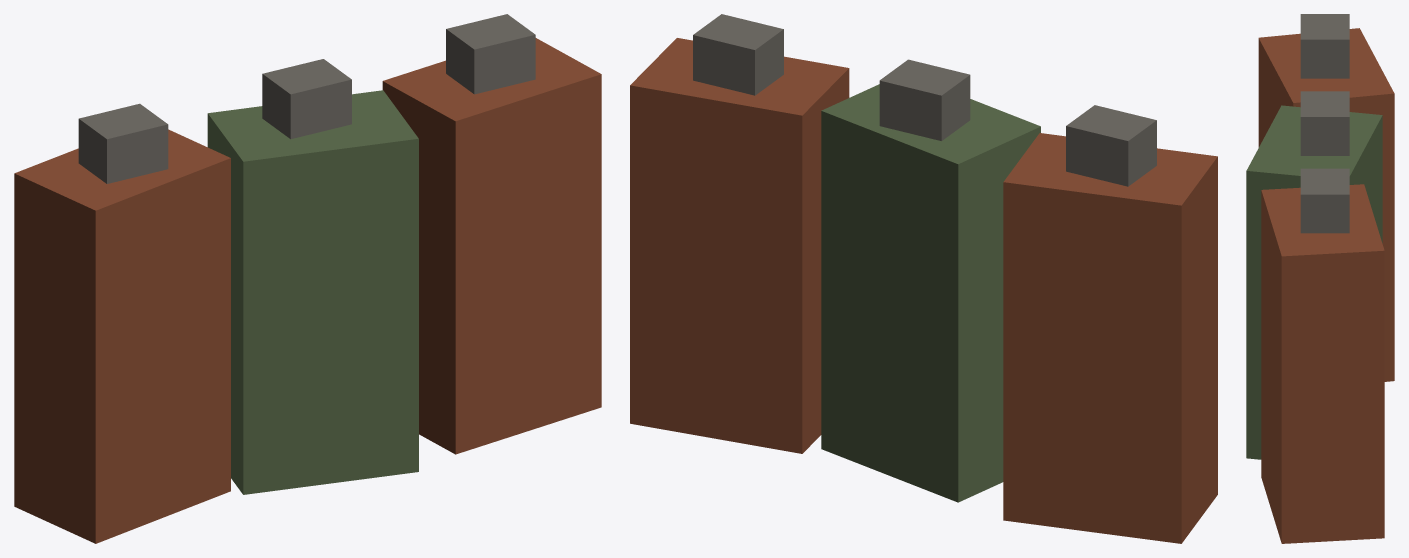
Rendered from P_Jerrycans.glb.
3 renders of one model, left to right at view 1: azimuth 30°, elevation 25°; view 2: azimuth 150°, elevation 25°; view 3: azimuth 270°, elevation 25°, orthographic. The views are drawn at different scales.
Parts seen in each view (by area): view 1: P_Jerrycans; view 2: P_Jerrycans; view 3: P_Jerrycans.
Boxes of the visible parts, x1,y1,x2,y2 form: P_Jerrycans: [14, 14, 601, 543]; P_Jerrycans: [630, 14, 1217, 543]; P_Jerrycans: [1246, 14, 1394, 543].
Bounding box in the file's own units: 0.8854 × 0.59 × 0.2427.
